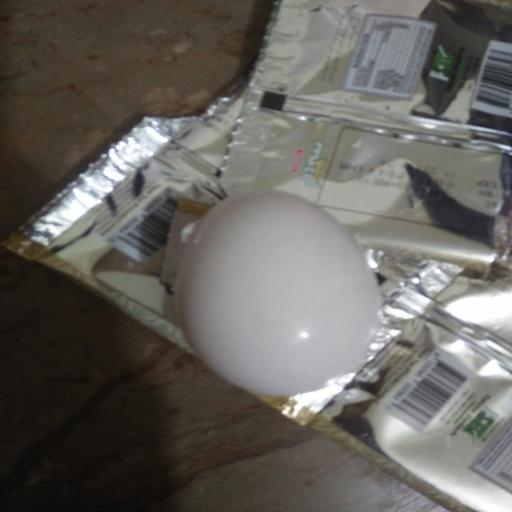telur: (174, 192, 380, 396)
